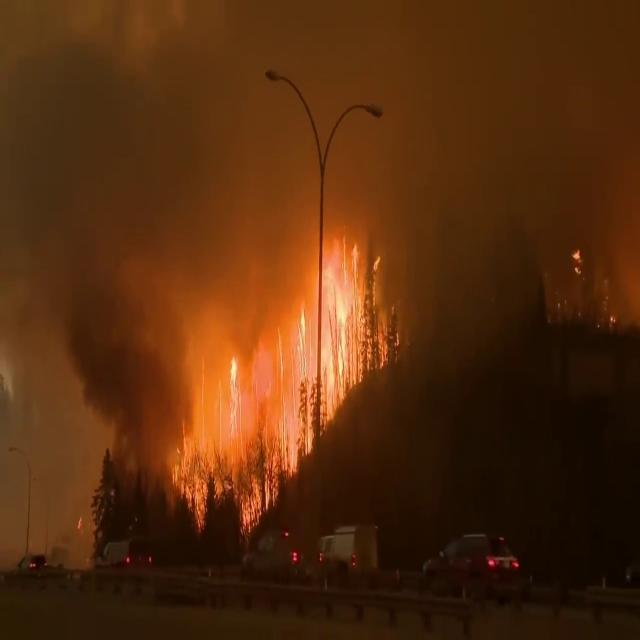Fire: (180, 209, 392, 528)
Smoke: (0, 1, 205, 528), (323, 0, 640, 327)
